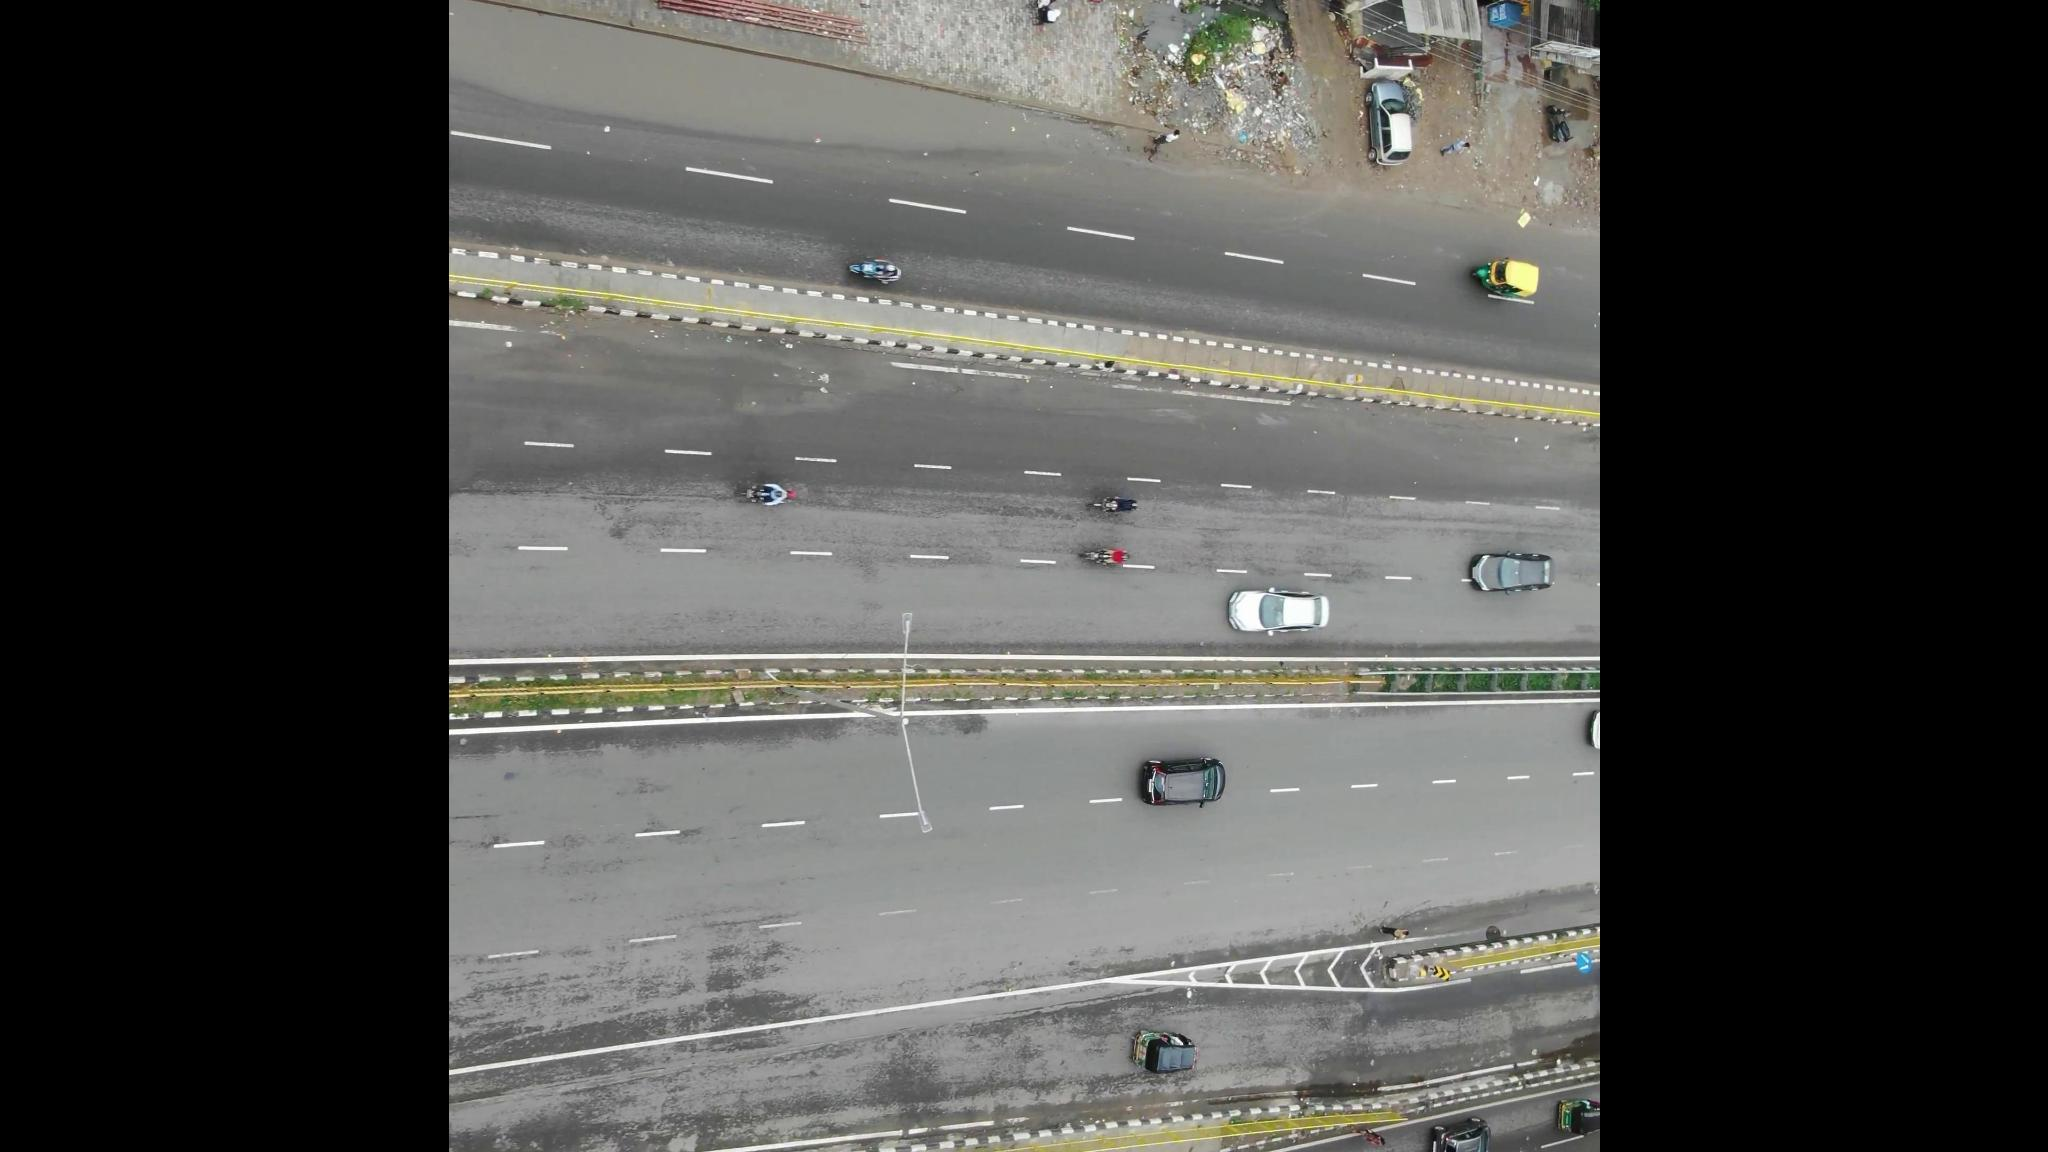Waterlogging: (551, 45, 1017, 165)
